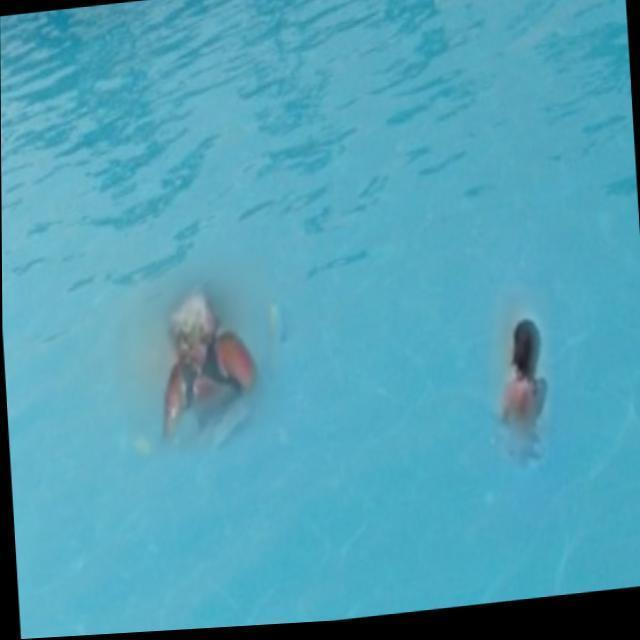swimming: (135, 285, 279, 433), (485, 294, 572, 466)
